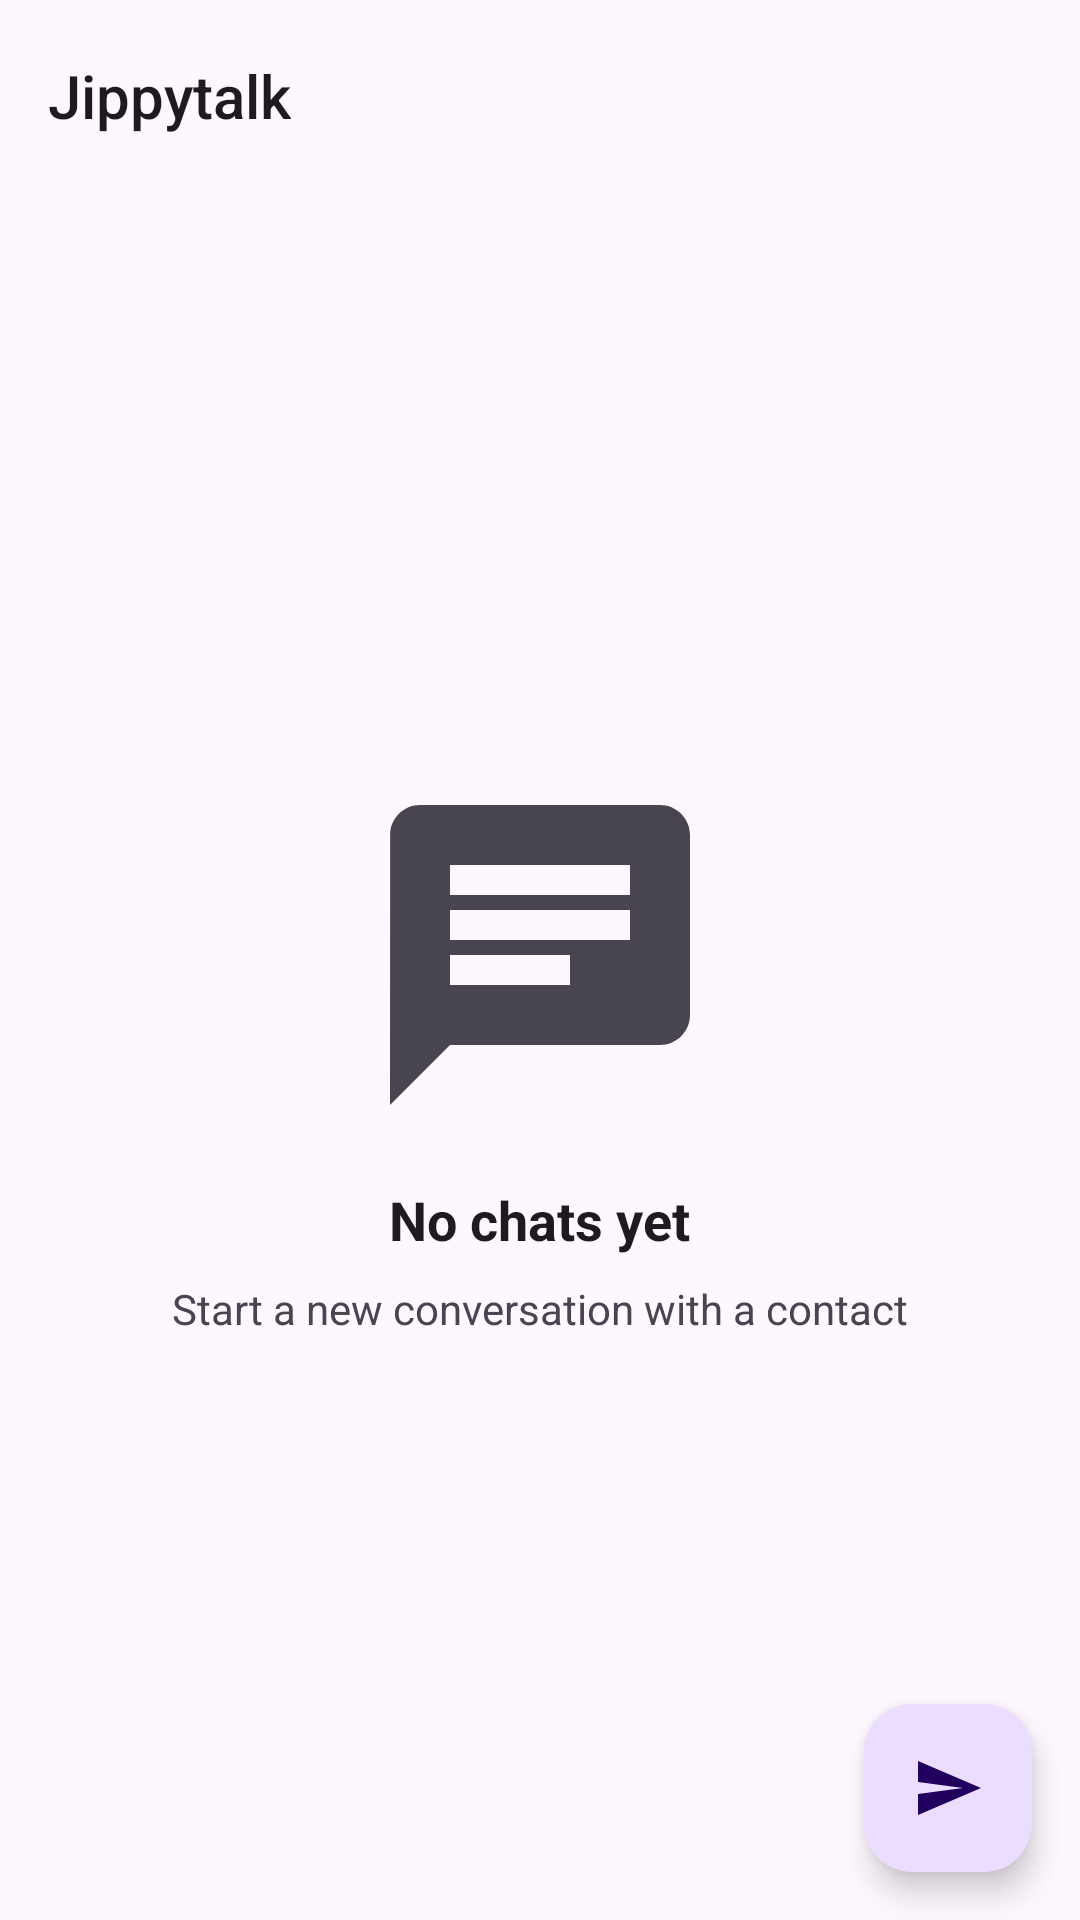

Icons on this 1080px x 1920px Android screen, each with its box as (x1, y1, x2, y2):
emtpy chat: (390, 805, 690, 1105)
send: (864, 1704, 1032, 1872)
